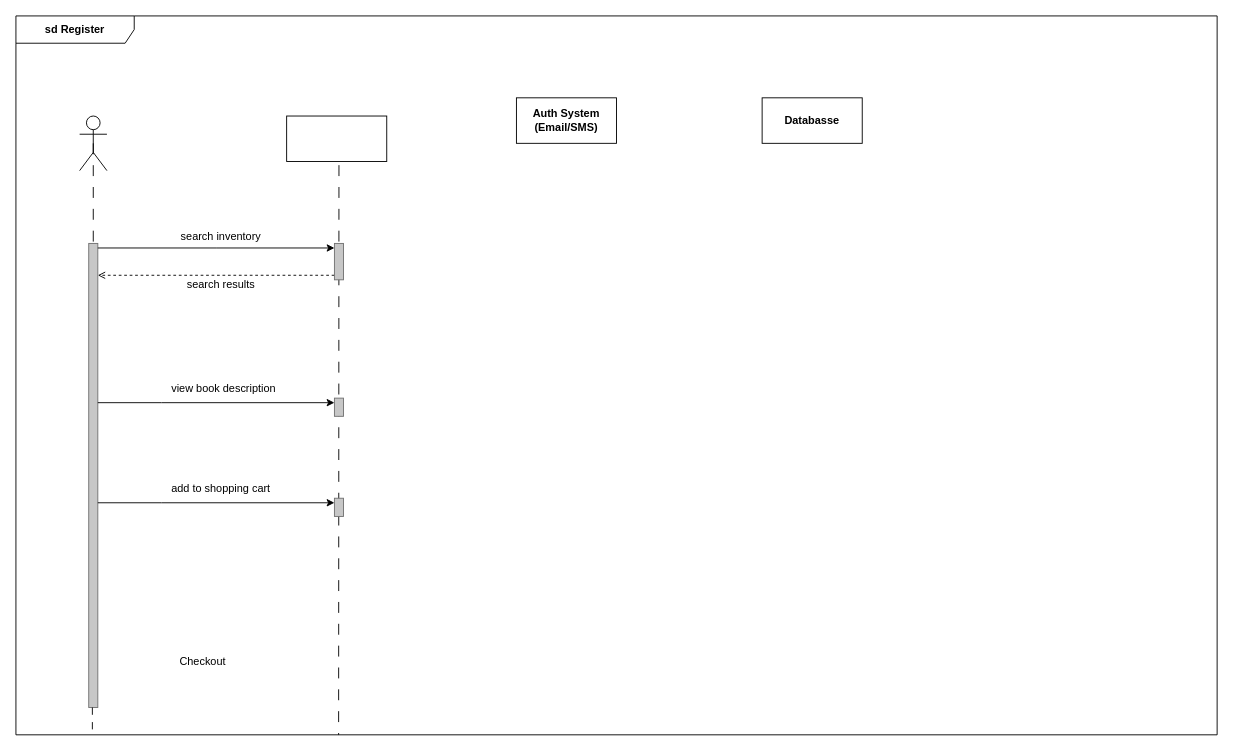
The diagram is 1233 pixels wide and 752 high, and some of its shapes have lost their labels. The shapes that lost their labels are listed below. From the top down, each one's centre as x and y in pixels, then its label:
point 93,143: :Web Customer
point 336,138: System
